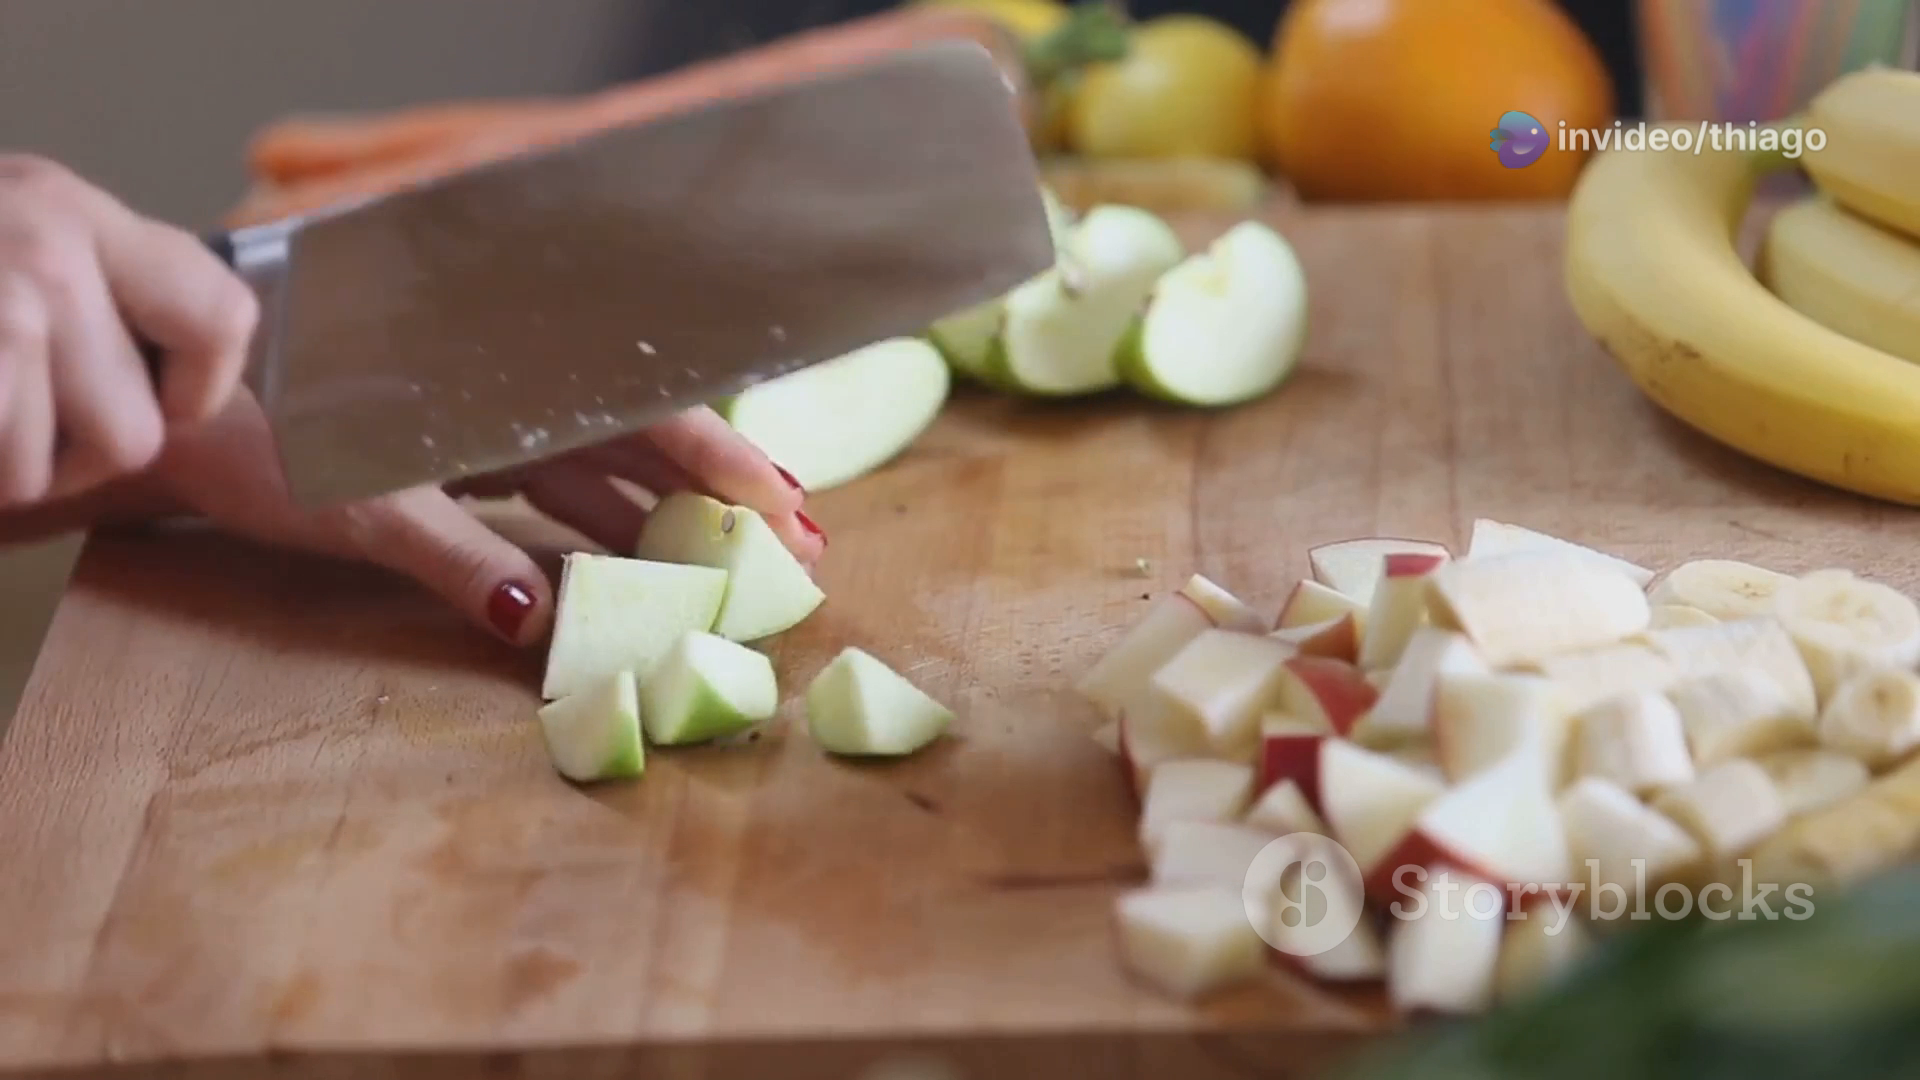cortante: (222, 34, 1060, 509)
